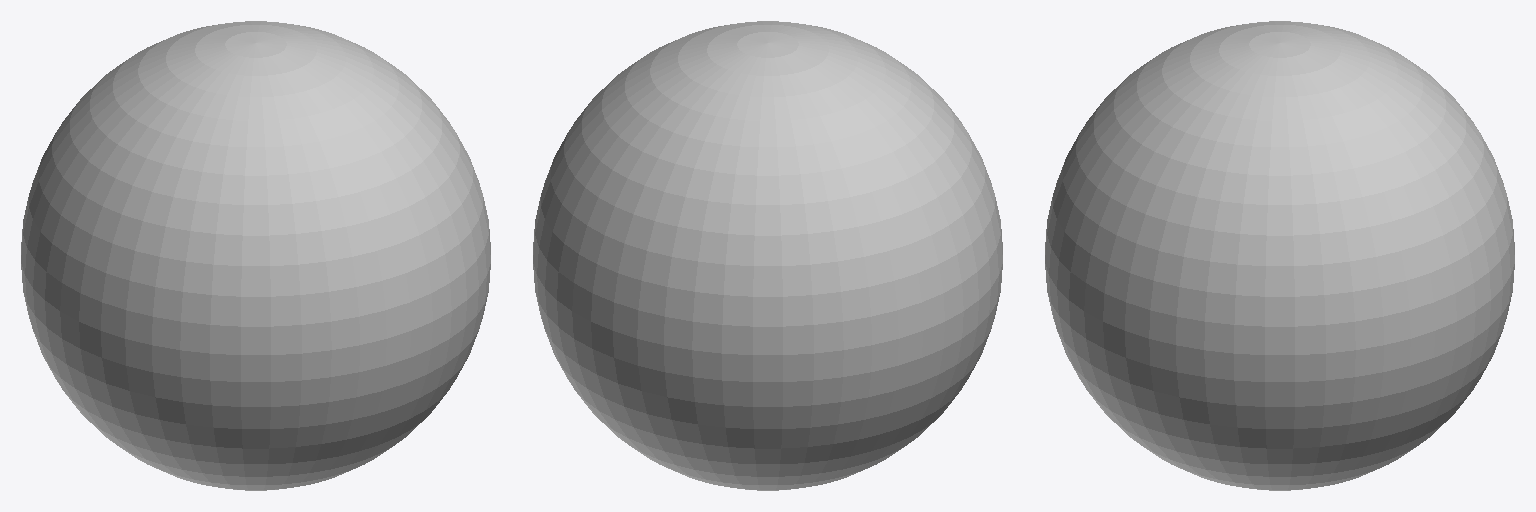
Rendered from reddot.obj.
3 renders of one model, left to right at view 1: azimuth 30°, elevation 25°; view 2: azimuth 150°, elevation 25°; view 3: azimuth 270°, elevation 25°, orthographic.
Parts seen in each view (by area): view 1: sphere; view 2: sphere; view 3: sphere.
Boxes of the visible parts, box(x1,y1,x2,y2) form: sphere: box(21, 21, 490, 490); sphere: box(533, 21, 1002, 490); sphere: box(1045, 21, 1514, 490).
Size of the model in its own units: 1 by 1 by 1.